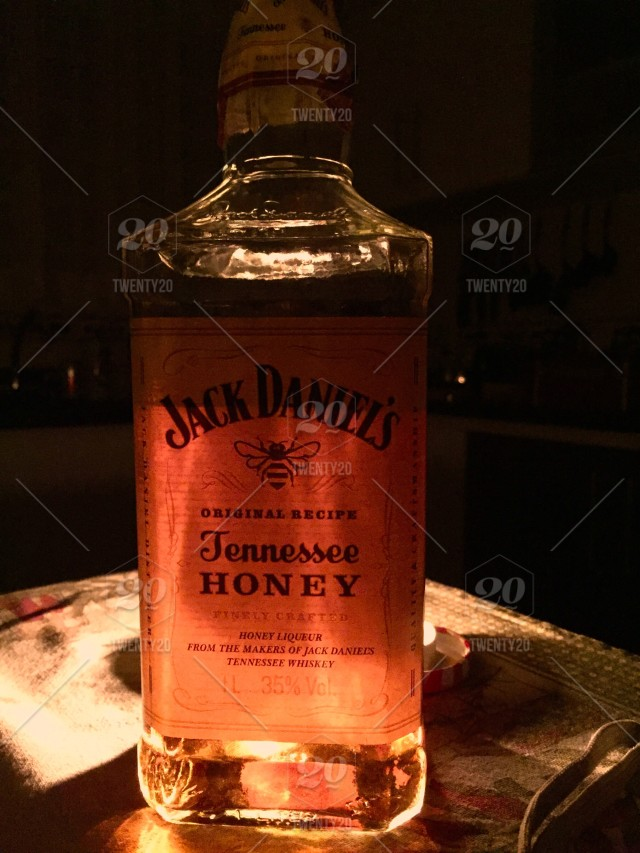Jack Daniel: (101, 2, 439, 839)
